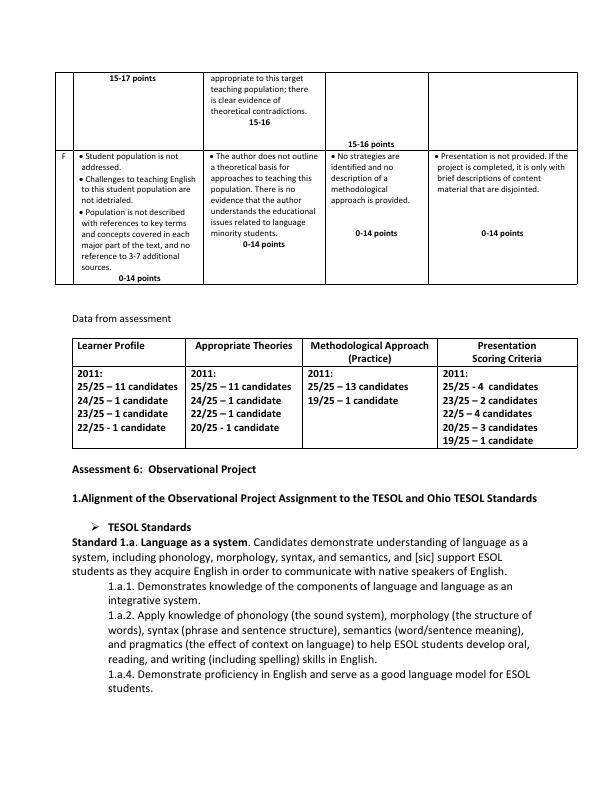table: (48, 62, 588, 296), (67, 334, 583, 456)
text: (64, 489, 554, 704), (67, 462, 263, 480), (67, 307, 173, 326)
